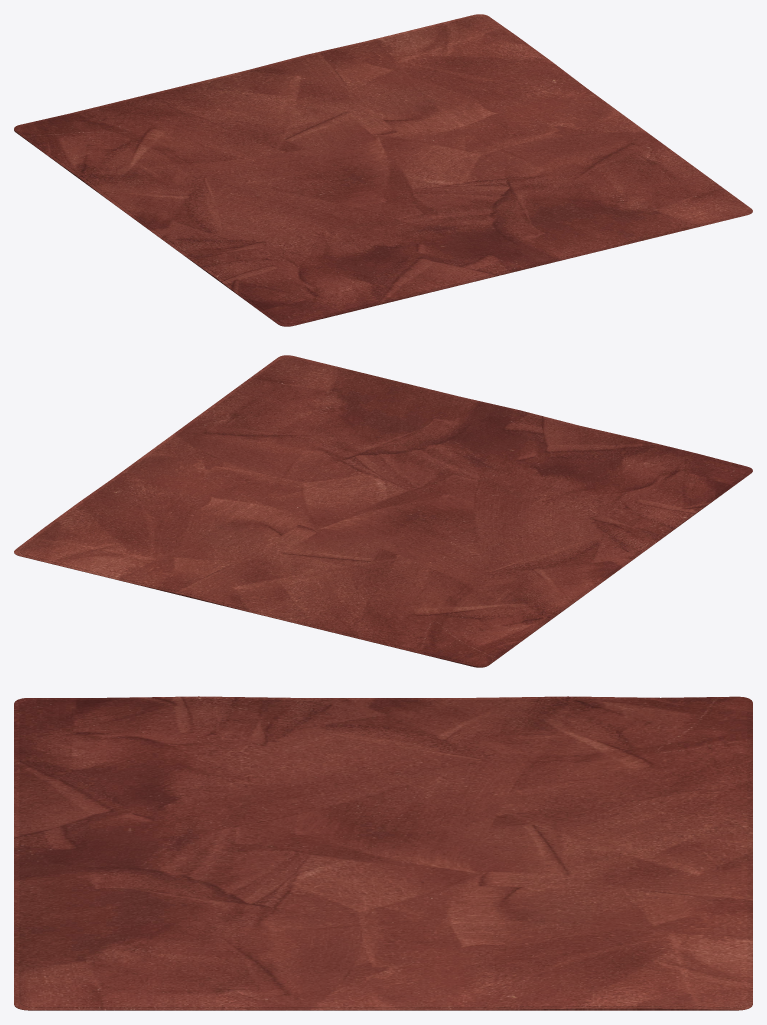
Rendered from carpet.fbx.
The picture shows the model from 3 angles, top to bottom: view 1: azimuth 30°, elevation 25°; view 2: azimuth 150°, elevation 25°; view 3: azimuth 270°, elevation 25°; orthographic projection. The views are drawn at different scales.
Visible parts, largest first — view 1: rug_01; view 2: rug_01; view 3: rug_01.
Boxes of the visible parts, left/top/right/bottom form: rug_01: left=14, top=14, right=752, bottom=326; rug_01: left=14, top=355, right=752, bottom=667; rug_01: left=14, top=696, right=752, bottom=1010.
Bounding box in the file's own units: 200 × 0.6498 × 200.
